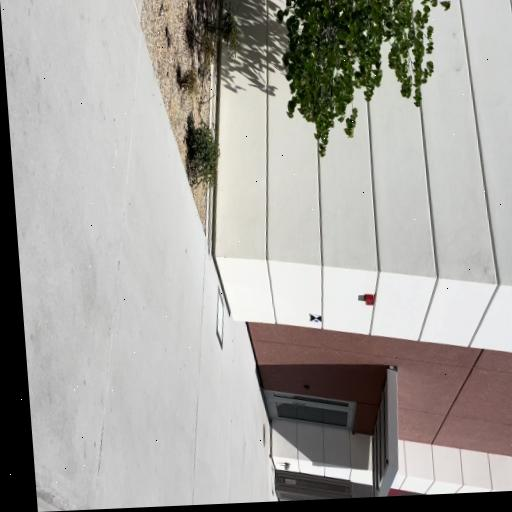target9: (310, 313, 322, 324)
